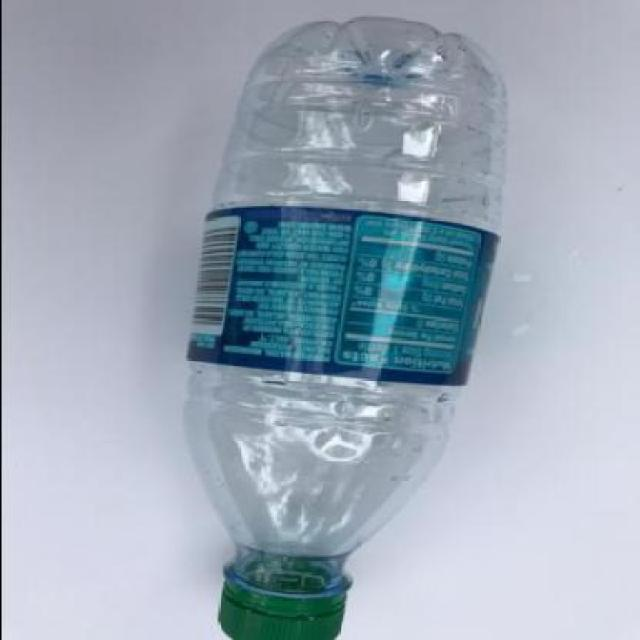PLASTIC: (182, 18, 503, 639), (183, 208, 497, 388), (216, 556, 350, 638)
